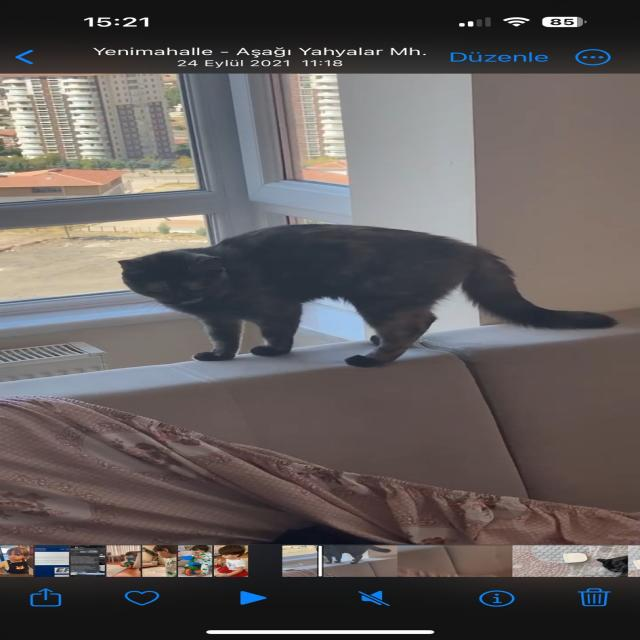authorized: (116, 223, 619, 368), (320, 545, 390, 564)
